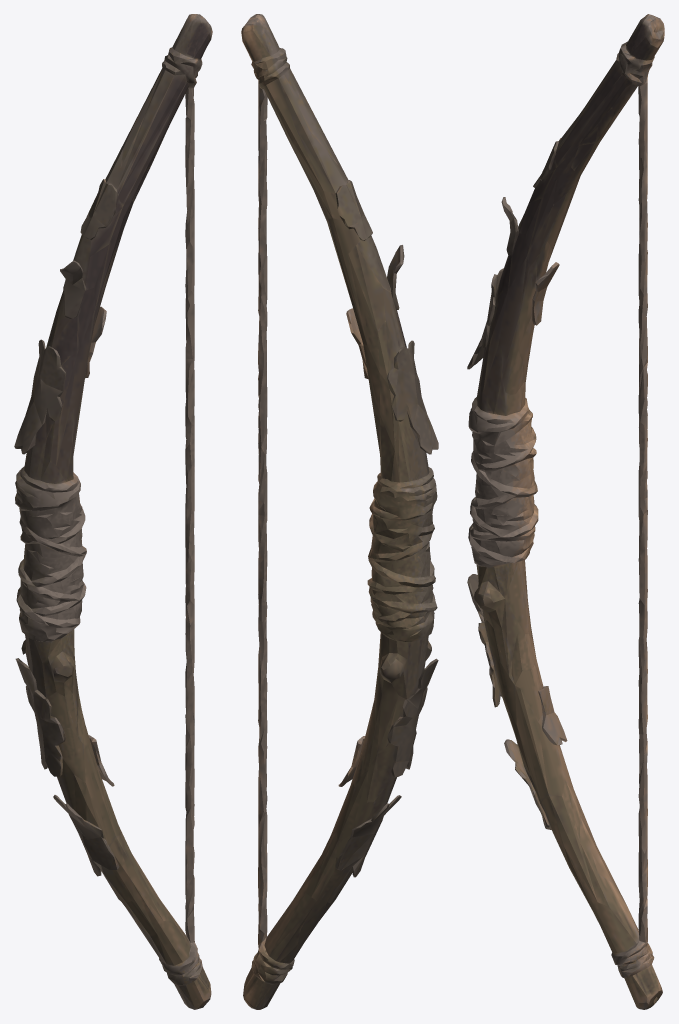
File: crude_bow.glb
The picture shows the model from 3 angles, left to right: view 1: azimuth 30°, elevation 25°; view 2: azimuth 150°, elevation 25°; view 3: azimuth 330°, elevation 25°; orthographic projection.
Size of the model in its own units: 0.3834 by 1.9 by 0.14.
Materials: 1 (1 with a texture image).
